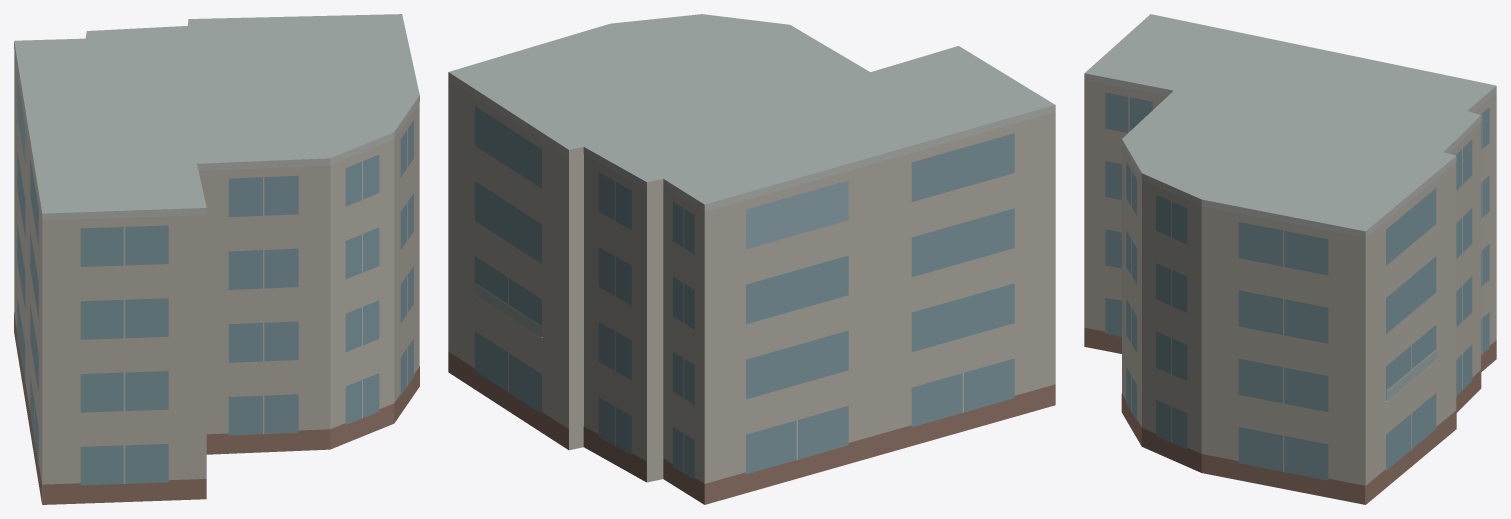
The model's file is survey-upis-32597645.glb.
3 renders of one model, left to right at view 1: azimuth 30°, elevation 25°; view 2: azimuth 150°, elevation 25°; view 3: azimuth 270°, elevation 25°, orthographic. The views are drawn at different scales.
Parts seen in each view (by area): view 1: survey-upis-32597645.tmp; view 2: survey-upis-32597645.tmp; view 3: survey-upis-32597645.tmp.
Part boxes in pixels (<box>): survey-upis-32597645.tmp: <box>14,14,419,504</box>; survey-upis-32597645.tmp: <box>448,14,1055,504</box>; survey-upis-32597645.tmp: <box>1084,14,1496,504</box>.
Size of the model in its own units: 17.02 by 9.98 by 13.64.
